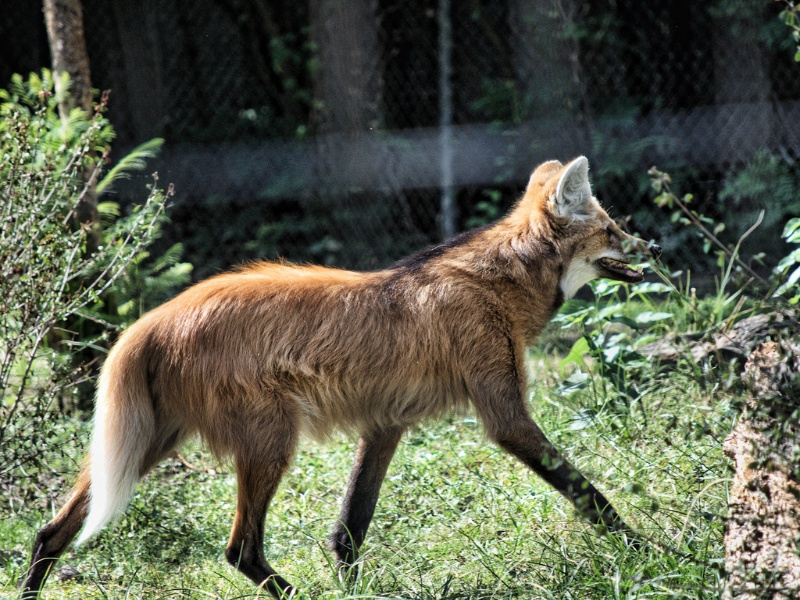fox: (21, 140, 657, 596)
